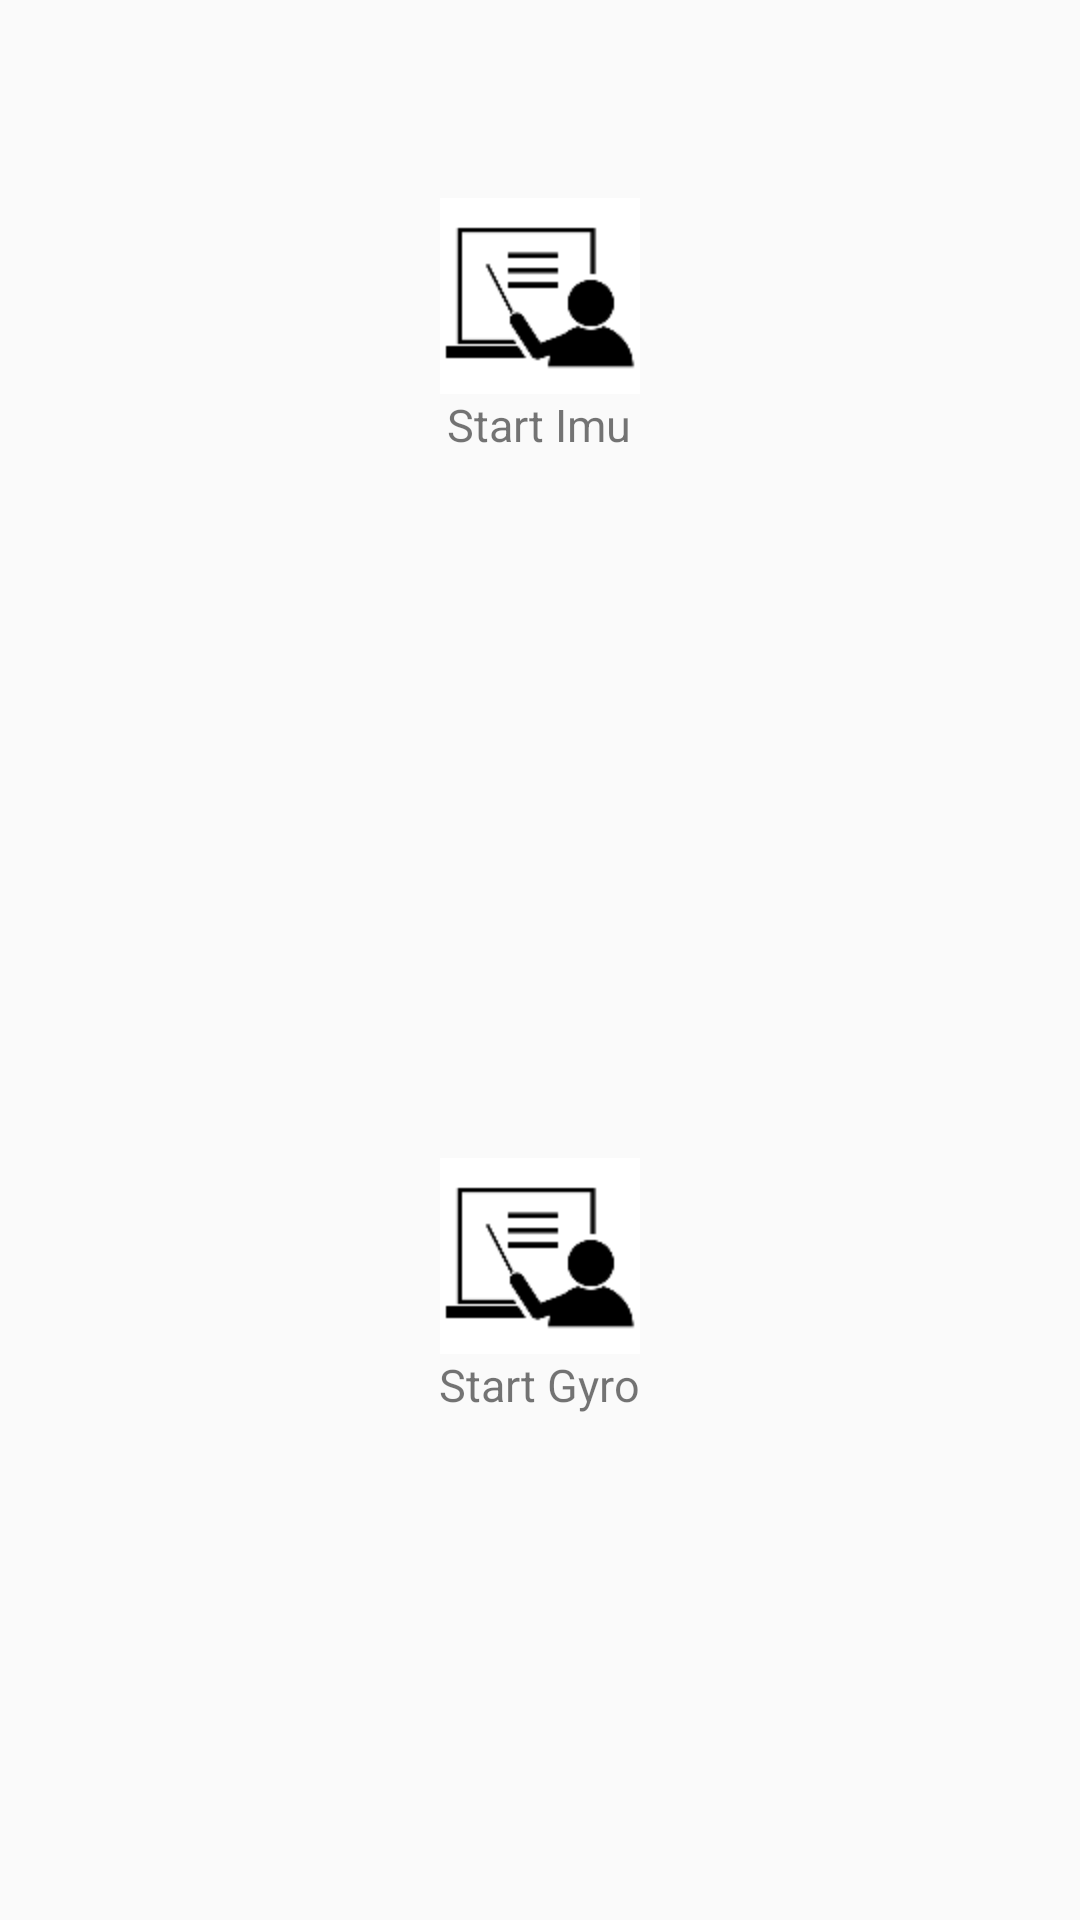

Named icons in this screenshot (1080x1920) and their centers, [x,y]:
teach: [540,297], [540,1257]
